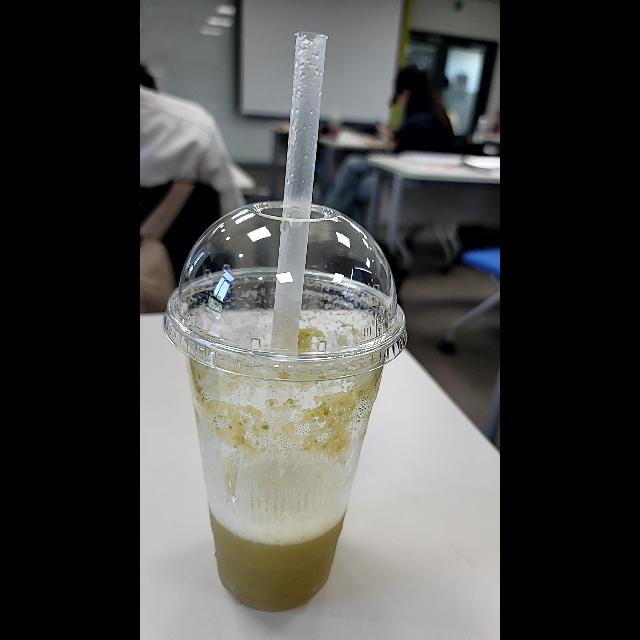plastic_cup: (162, 198, 410, 614)
plastic_cup_lid: (162, 200, 412, 388)
straw: (269, 35, 323, 353)
